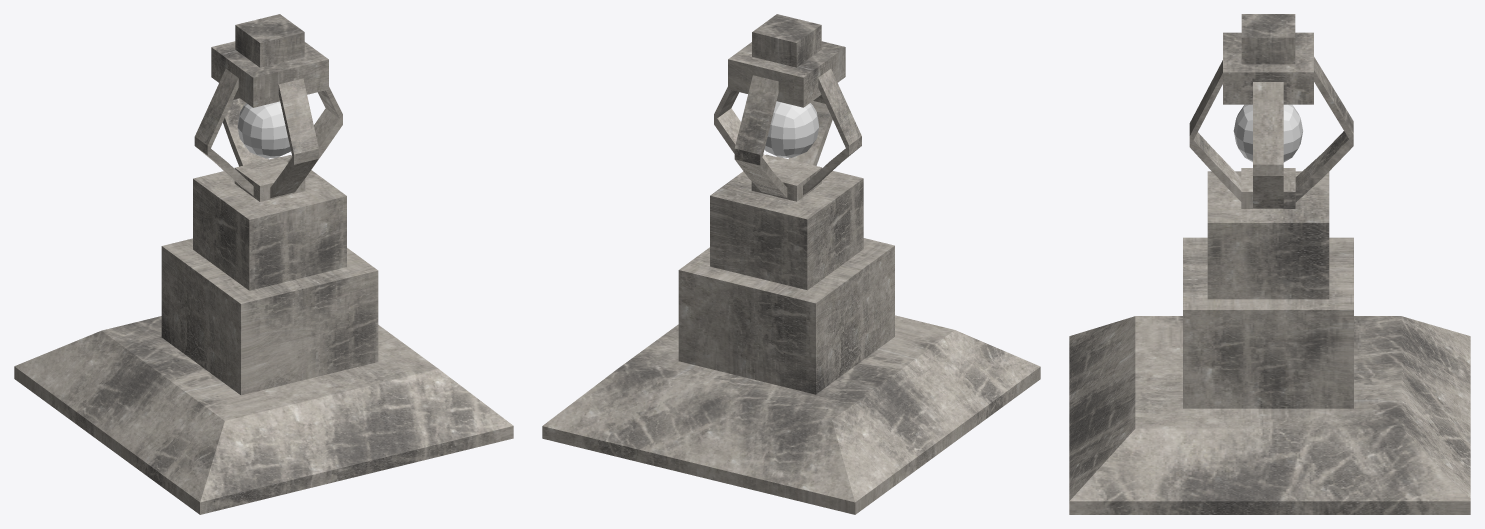
Rendered from Save.fbx.
3 renders of one model, left to right at view 1: azimuth 30°, elevation 25°; view 2: azimuth 150°, elevation 25°; view 3: azimuth 270°, elevation 25°, orthographic. The views are drawn at different scales.
Visible parts, largest first — view 1: Cube.001; view 2: Cube.001; view 3: Cube.001.
Boxes of the visible parts, x1,y1,x2,y2 form: Cube.001: (14, 14, 513, 514); Cube.001: (542, 14, 1040, 514); Cube.001: (1069, 14, 1470, 514).
Bounding box in the file's own units: 264 × 305 × 271.
Materials: 2 (1 with a texture image).
